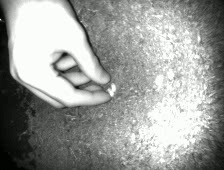corn: (153, 73, 165, 86), (105, 86, 116, 98), (109, 81, 118, 93)
